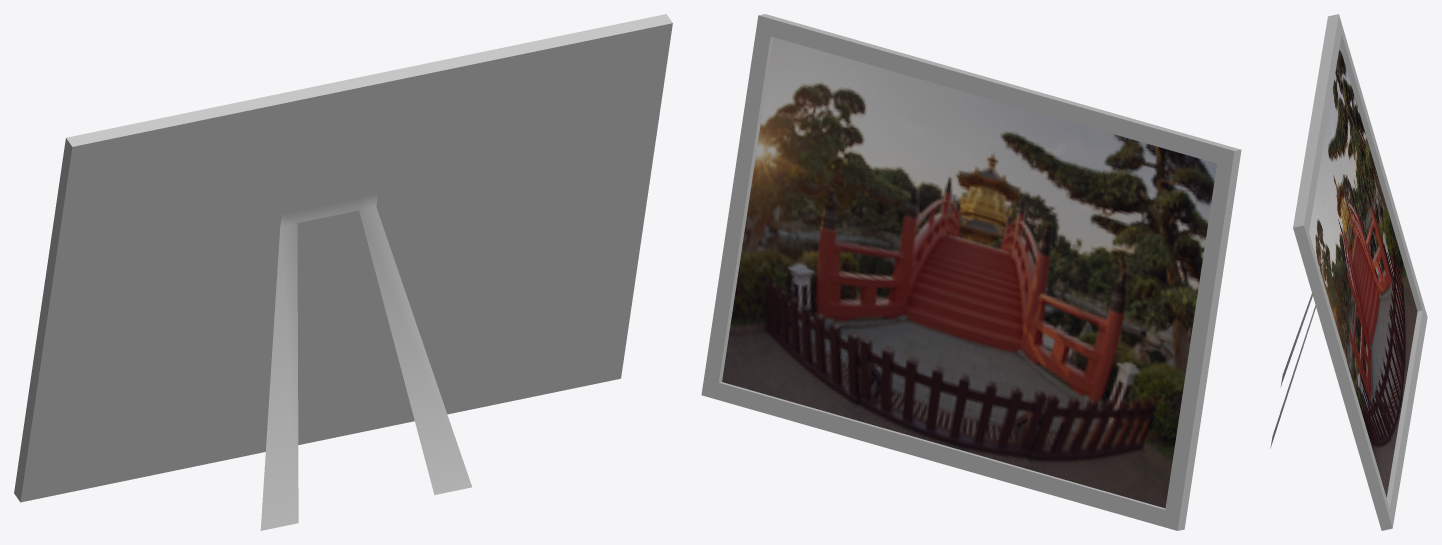
The model's file is Photo_desk.FBX.
3 views of the same model, side by side, from view 1: azimuth 30°, elevation 25°; view 2: azimuth 150°, elevation 25°; view 3: azimuth 270°, elevation 25° (orthographic). The views are drawn at different scales.
Parts seen in each view (by area): view 1: Photo_desk; view 2: Photo_desk; view 3: Photo_desk.
Part boxes in pixels (x1,y1,x2,y2): Photo_desk: [14, 14, 672, 530]; Photo_desk: [701, 14, 1241, 530]; Photo_desk: [1270, 14, 1427, 530].
Bounding box in the file's own units: 0.2216 × 0.1462 × 0.0687.
